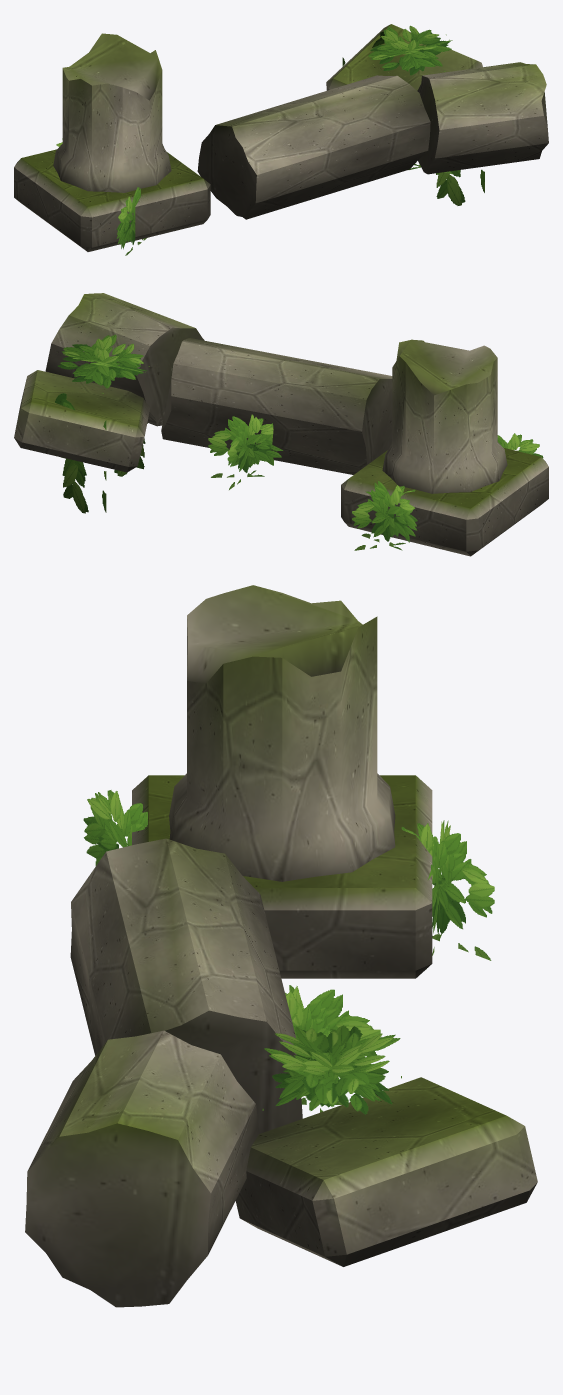
Rendered from ruin_column_fallen.glb.
3 views of the same model, one above another, from view 1: azimuth 30°, elevation 25°; view 2: azimuth 150°, elevation 25°; view 3: azimuth 270°, elevation 25° (orthographic). The views are drawn at different scales.
Parts seen in each view (by area): view 1: ruin_column_fallen; view 2: ruin_column_fallen; view 3: ruin_column_fallen.
Part boxes in pixels (x1,y1,x2,y2): ruin_column_fallen: (14,24,548,255); ruin_column_fallen: (14,293,548,556); ruin_column_fallen: (25,585,537,1307).
Size of the model in its own units: 3.21 by 1.43 by 1.54.
Materials: 2 (2 with a texture image).
